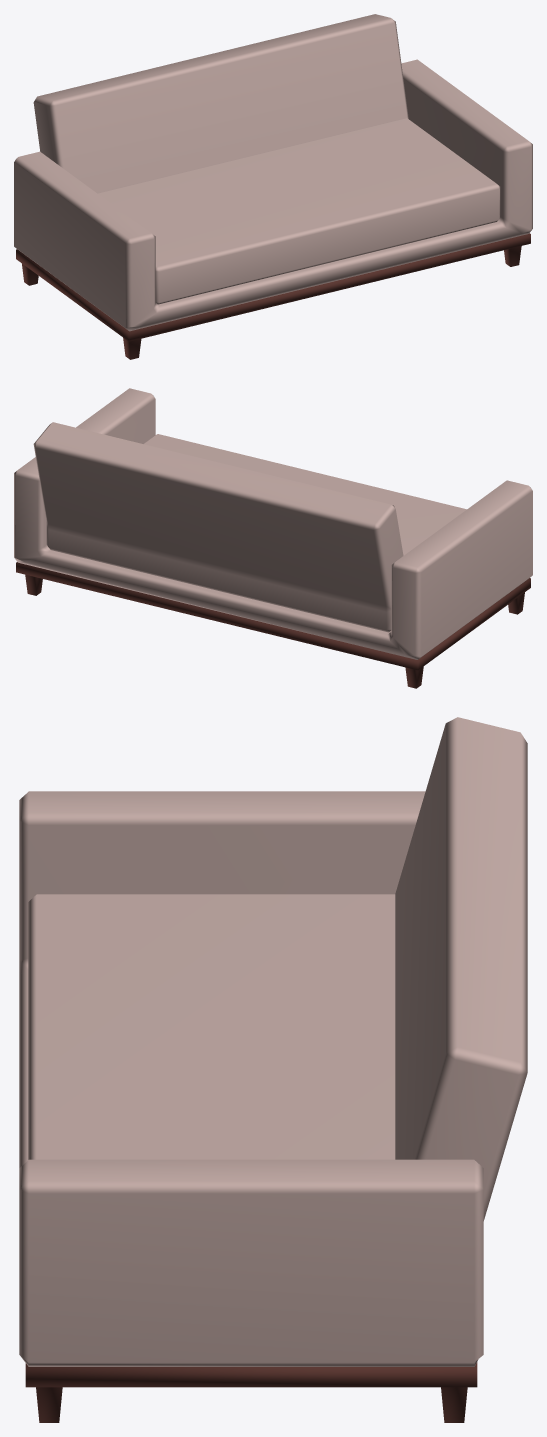
The model's file is sofa_012.glb.
3 views of the same model, one above another, from view 1: azimuth 30°, elevation 25°; view 2: azimuth 150°, elevation 25°; view 3: azimuth 270°, elevation 25° (orthographic). The views are drawn at different scales.
Visible parts, largest first — view 1: sofa_012; view 2: sofa_012; view 3: sofa_012.
Part boxes in pixels (x1,y1,x2,y2): sofa_012: [14, 14, 532, 359]; sofa_012: [14, 388, 532, 688]; sofa_012: [19, 717, 527, 1422].
Size of the model in its own units: 1.86 by 0.7684 by 1.
1 material, 1 textured.
